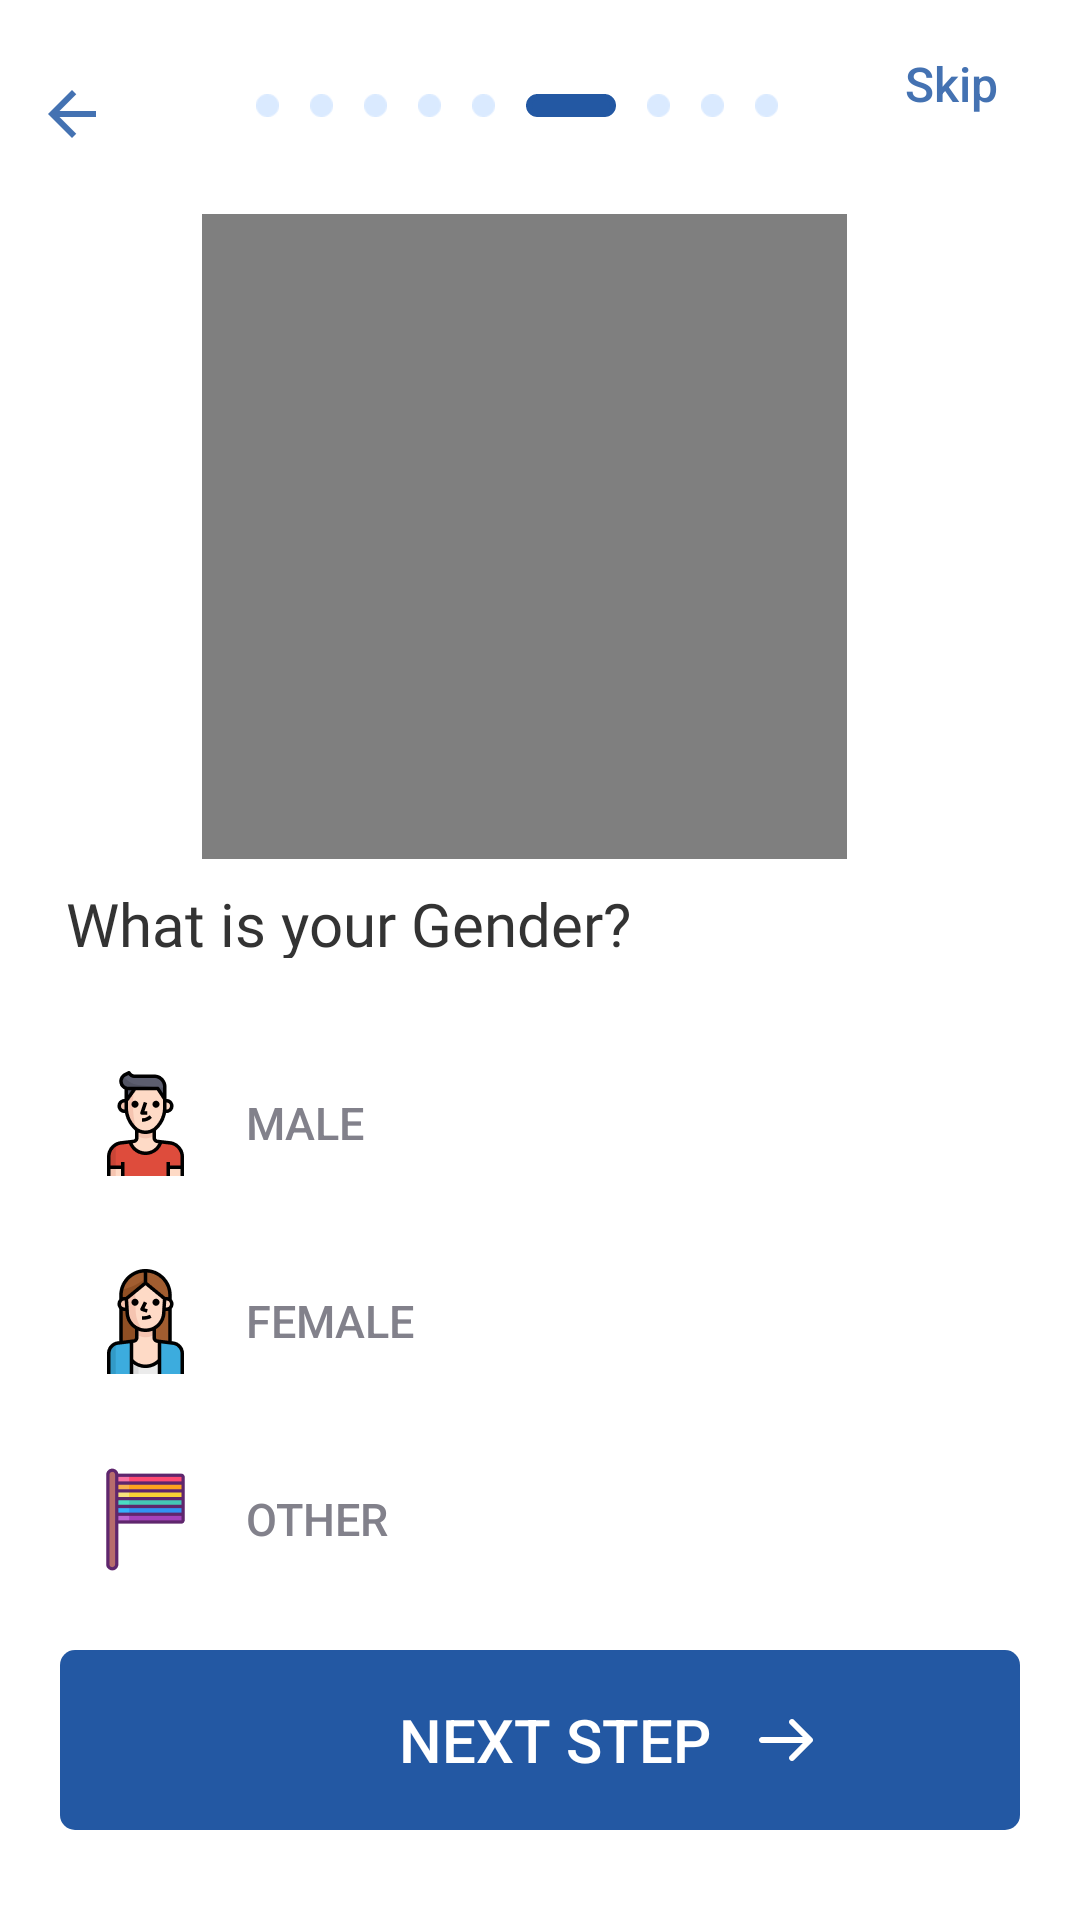

Where icons sit on this 1080x1920 app screen, as {"x1": x1, "y1": y1, "x2": x2, "y2": y2}:
feather arrow right: {"x1": 759, "y1": 1719, "x2": 813, "y2": 1761}
man: {"x1": 107, "y1": 1071, "x2": 184, "y2": 1176}
woman: {"x1": 107, "y1": 1269, "x2": 184, "y2": 1374}
